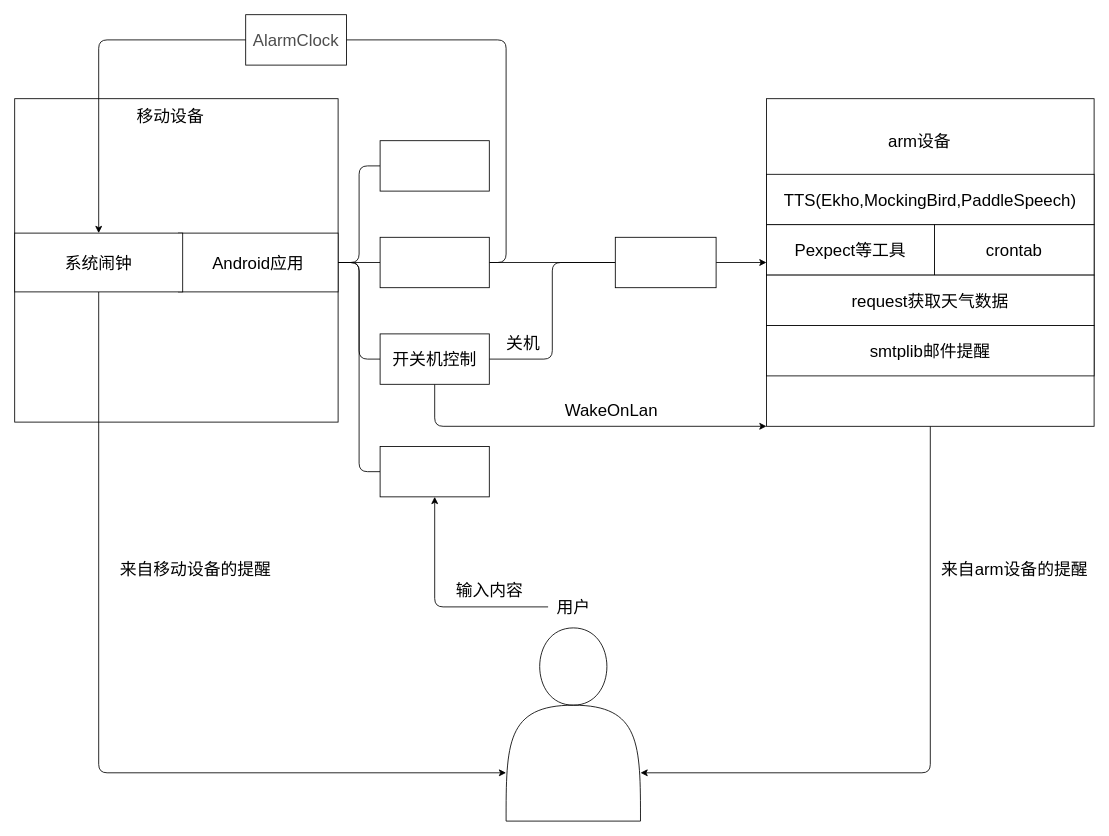
This 1109x836 diagram has some shape labels left out. Each missing label, with the centre of its shape:
"JSch" goes at pixel 665 262.
"正则表达式匹配" goes at pixel 434 471.
"添加闹钟" goes at pixel 434 262.
"简易备忘录" goes at pixel 434 165.
